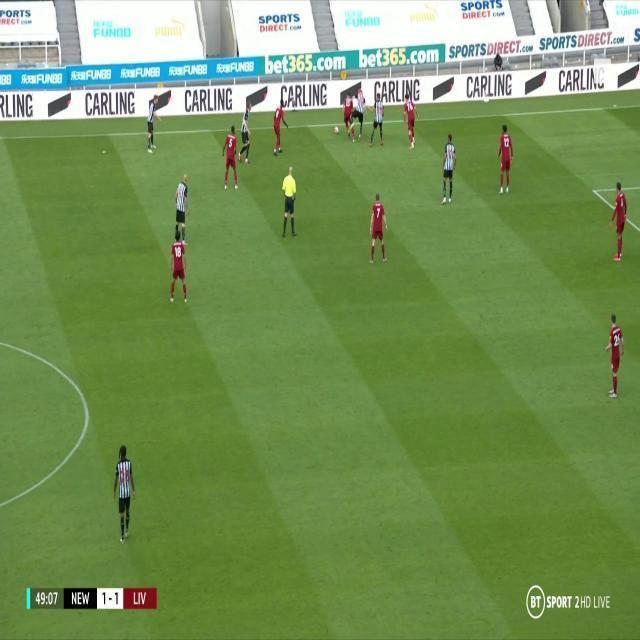ball: (334, 124, 340, 135)
player: (112, 442, 138, 545), (604, 312, 627, 406), (168, 230, 190, 306), (610, 180, 629, 265), (144, 88, 168, 155), (368, 192, 389, 266), (172, 171, 192, 246), (439, 132, 459, 207), (496, 123, 514, 197), (221, 126, 240, 192), (239, 99, 254, 166), (271, 96, 287, 157), (369, 88, 385, 149), (352, 87, 368, 142), (403, 91, 418, 148), (343, 94, 353, 141)
referee: (281, 163, 298, 242)
